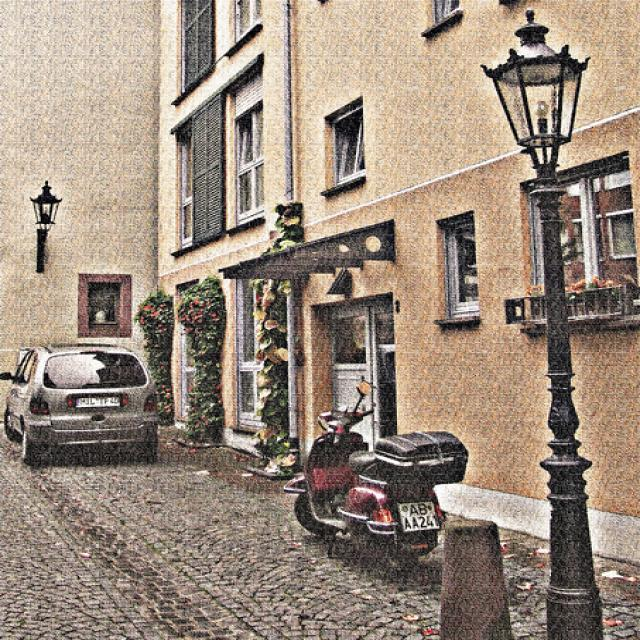motor: (281, 382, 466, 575)
